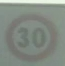limite 30: (1, 2, 64, 65)
